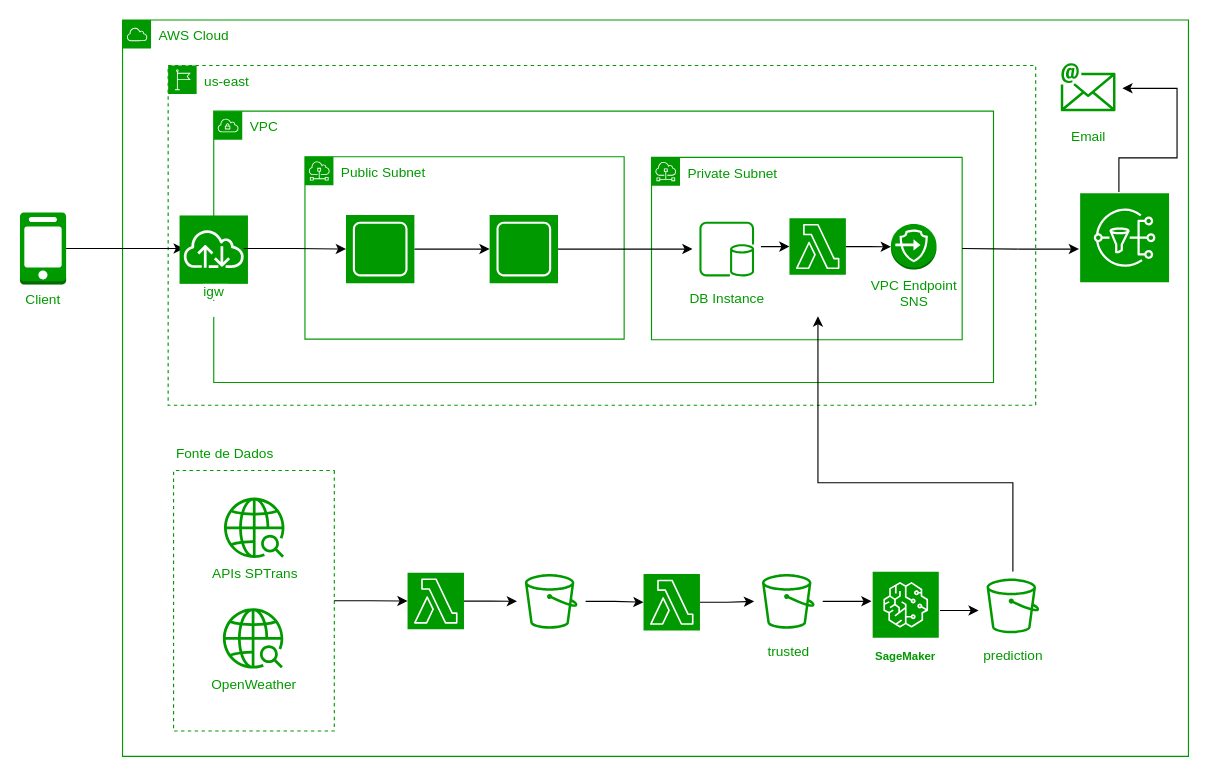
Some shapes in this 1208 by 776 pixel diagram are drawn without their labels. The shapes that lost their labels are listed below. From the top down, each one's centre as x and y in pixels, then its label:
At point (379, 248): "Web App".
At point (523, 248): "Grafana".
At point (817, 246): "Lambda Orquestrador".
At point (1124, 248): "Amazon SNS".
At point (435, 600): "Lambda Ingestion".
At point (550, 601): "raw".
At point (671, 601): "Lamba ETL".
